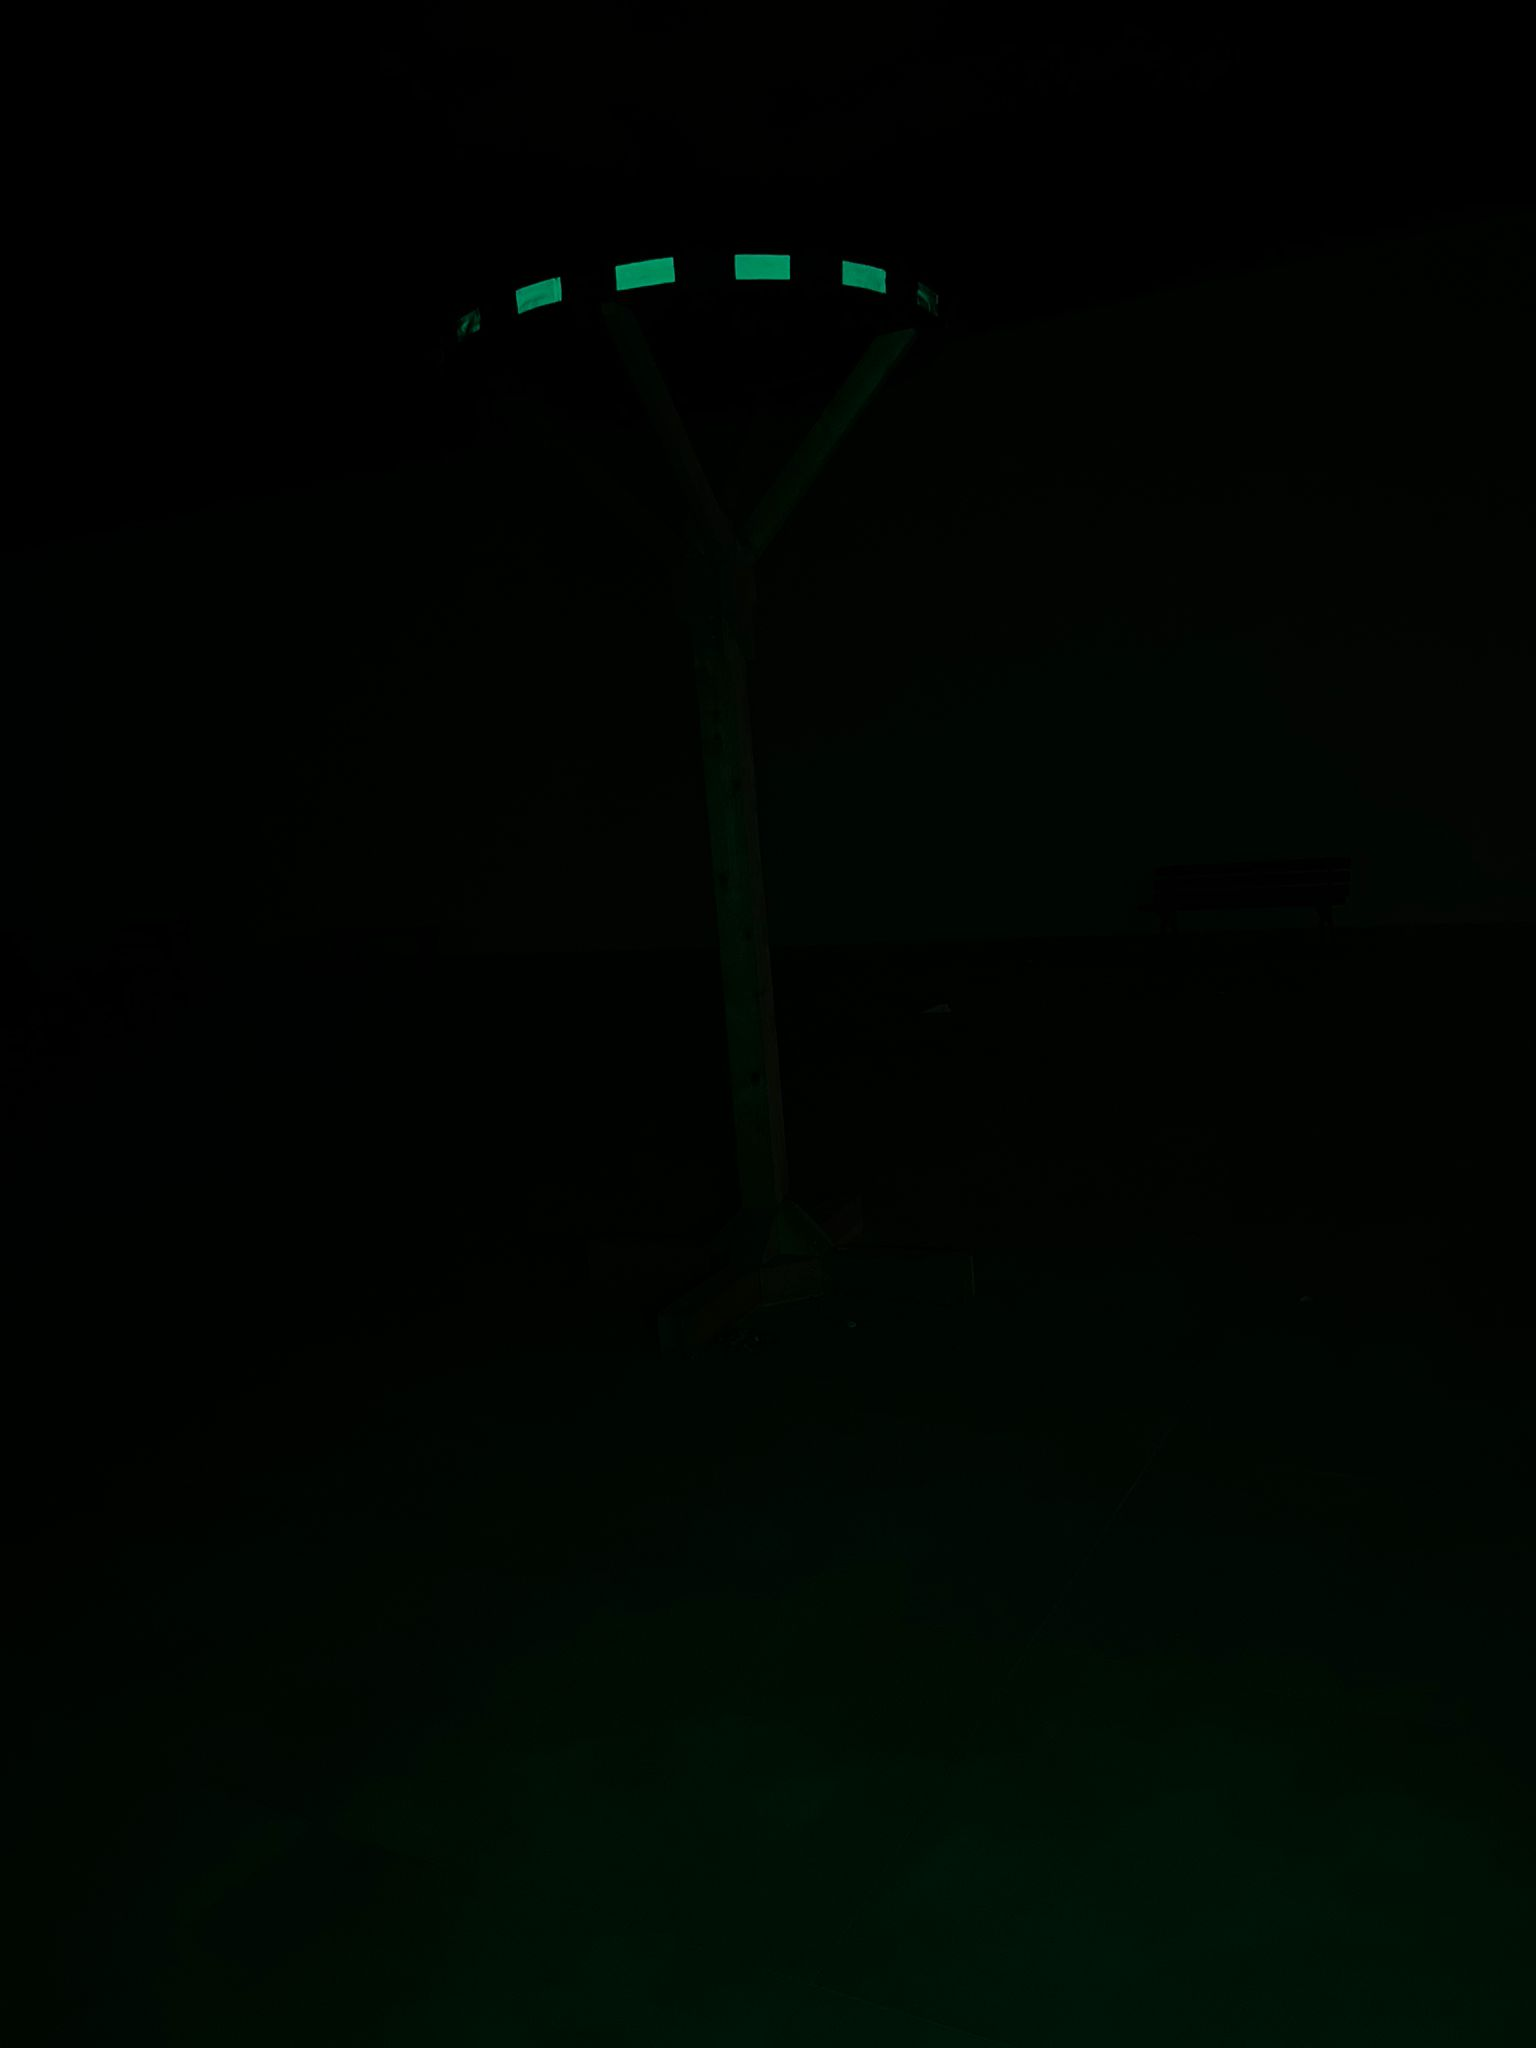hoop: (502, 239, 905, 314)
